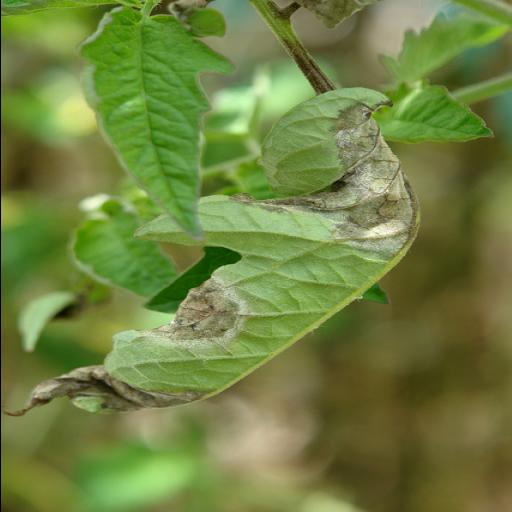Healthy: (80, 0, 234, 242)
Late Blight: (10, 85, 428, 418)
